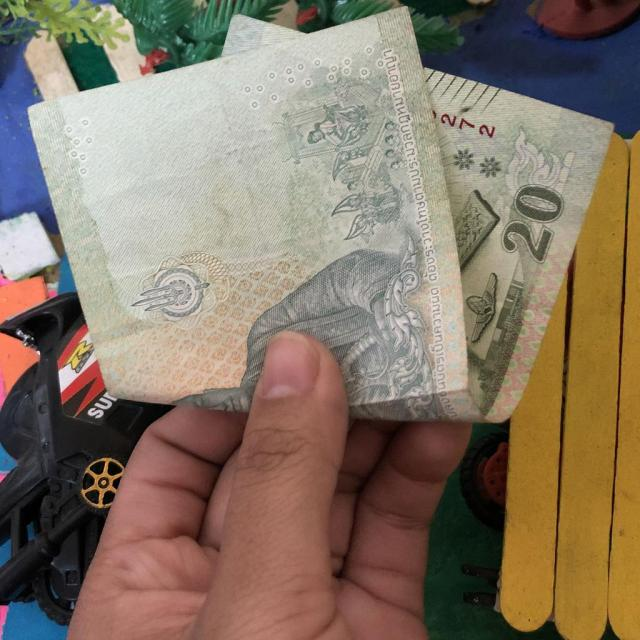THAI20: (29, 8, 612, 422)
